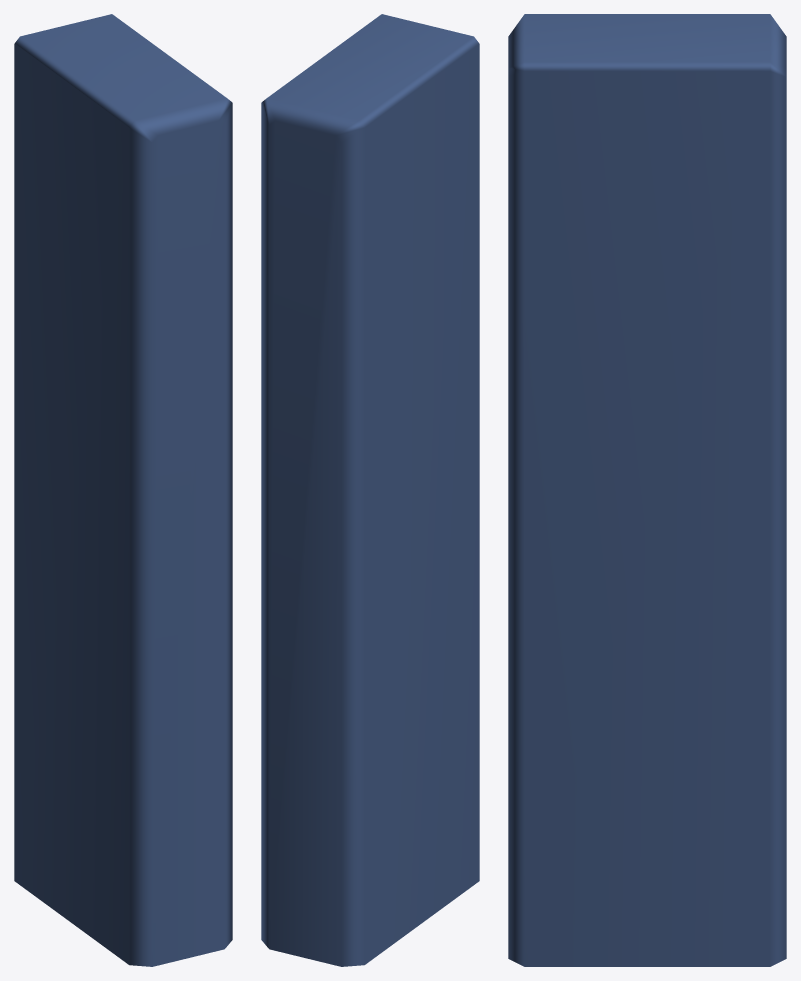
File: SM_HQframePillar.fbx
3 views of the same model, side by side, from view 1: azimuth 30°, elevation 25°; view 2: azimuth 150°, elevation 25°; view 3: azimuth 270°, elevation 25° (orthographic). The views are drawn at different scales.
Visible parts, largest first — view 1: SM_frame; view 2: SM_frame; view 3: SM_frame.
Boxes of the visible parts, bbox=[...] form: SM_frame: bbox=[14, 14, 232, 966]; SM_frame: bbox=[261, 14, 479, 966]; SM_frame: bbox=[508, 14, 786, 966].
Size of the model in its own units: 89.92 by 701 by 196.
